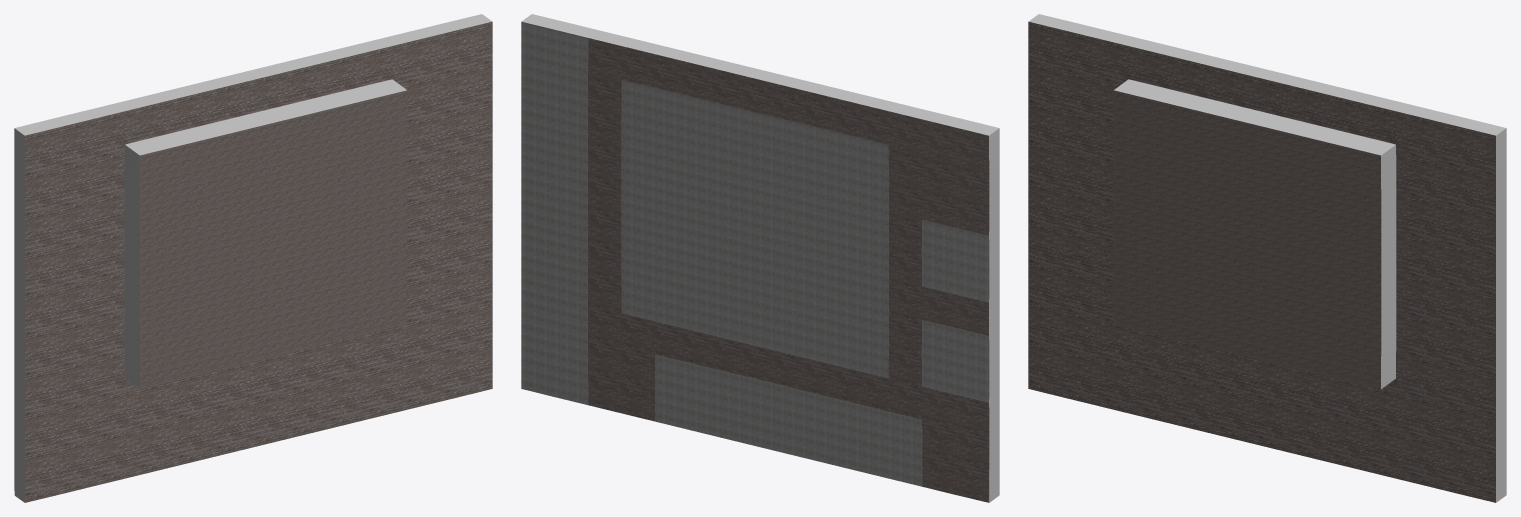
Rendered from 3ypworld2.obj.
3 renders of one model, left to right at view 1: azimuth 30°, elevation 25°; view 2: azimuth 150°, elevation 25°; view 3: azimuth 330°, elevation 25°, orthographic.
Visible parts, largest first — view 1: Walls_Cube_Ceiling, Walls_Cube_WhiteWalkBrick, Walls_Cube_InteriorWall, Walls_Cube_Default, Walls_Cube_External; view 2: Walls_Cube_FloorStoneTiles, Walls_Cube_WoodFloorCorridoor, Walls_Cube_InteriorWall, Walls_Cube_Default, Walls_Cube_External; view 3: Walls_Cube_Ceiling, Walls_Cube_WhiteWalkBrick, Walls_Cube_External, Walls_Cube_InteriorWall.
Boxes of the visible parts, x1=… form: Walls_Cube_Ceiling: x1=25, y1=21, x2=492, y2=502; Walls_Cube_WhiteWalkBrick: x1=124, y1=79, x2=406, y2=389; Walls_Cube_InteriorWall: x1=14, y1=30, x2=425, y2=502; Walls_Cube_Default: x1=14, y1=228, x2=24, y2=402; Walls_Cube_External: x1=415, y1=14, x2=491, y2=37; Walls_Cube_FloorStoneTiles: x1=521, y1=21, x2=989, y2=486; Walls_Cube_WoodFloorCorridoor: x1=588, y1=38, x2=989, y2=502; Walls_Cube_InteriorWall: x1=588, y1=30, x2=999, y2=502; Walls_Cube_Default: x1=989, y1=228, x2=999, y2=402; Walls_Cube_External: x1=522, y1=14, x2=598, y2=37; Walls_Cube_Ceiling: x1=1028, y1=21, x2=1495, y2=502; Walls_Cube_WhiteWalkBrick: x1=1114, y1=79, x2=1396, y2=389; Walls_Cube_External: x1=1429, y1=112, x2=1506, y2=502; Walls_Cube_InteriorWall: x1=1029, y1=14, x2=1439, y2=119.
Bounding box in the file's own units: 80.12 × 60.14 × 7.56.
